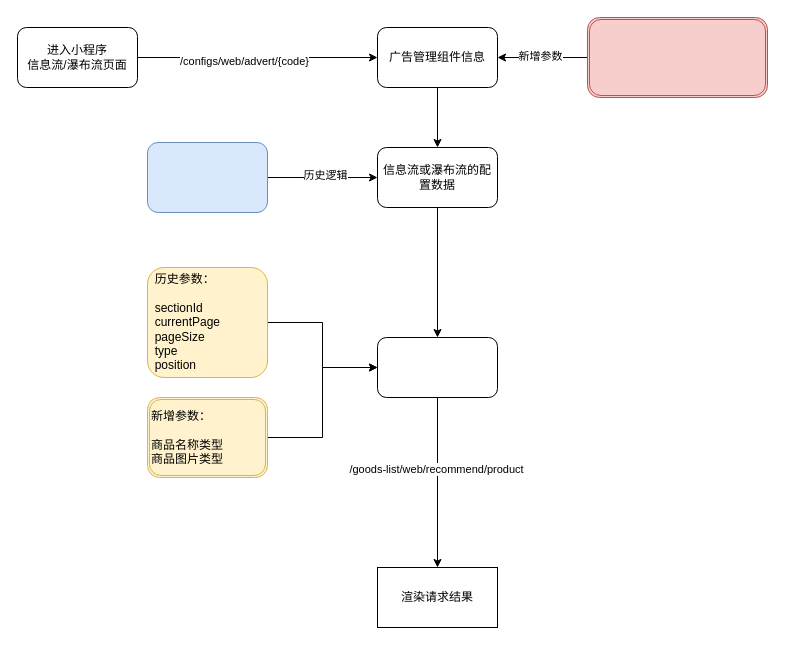
Image size: 785x645. Some labels were removed from this diagram. Each missing label, with the centre of its shape:
信息流和瀑布流都配置优先取信息流: (x=207, y=177)
信息流展示组件 请求接口: (x=437, y=367)
信息流或瀑布流增加返回参数： 商品名称类型 商品图片类型: (x=677, y=57)
